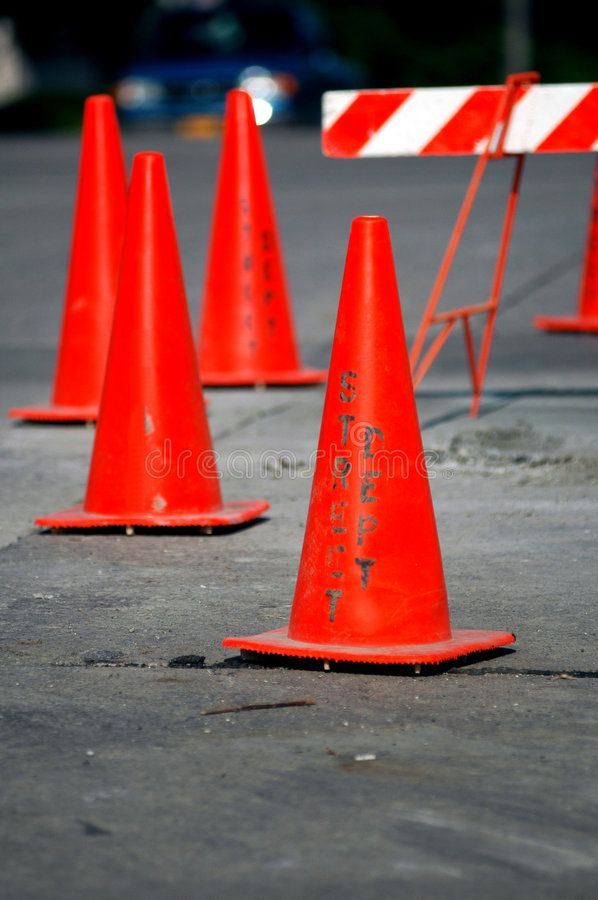cones: (260, 212, 491, 678), (85, 146, 250, 535), (40, 78, 128, 428)
